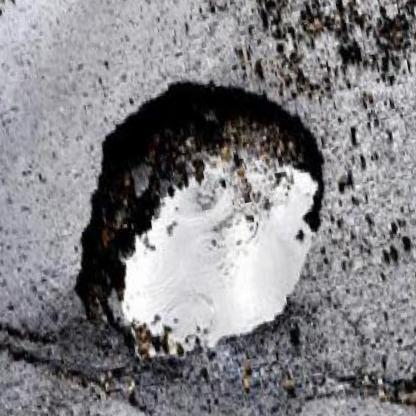pothole: (35, 47, 357, 374)
